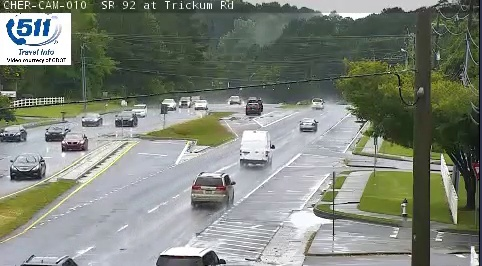car: (191, 172, 233, 202), (300, 119, 317, 131)
van: (240, 130, 271, 164)
